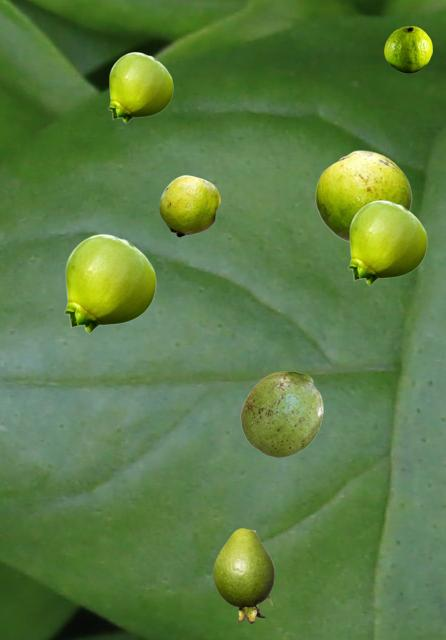guava: (64, 234, 155, 332), (315, 150, 411, 242), (240, 371, 322, 456), (348, 200, 426, 284), (213, 528, 273, 622), (108, 52, 172, 122), (159, 175, 219, 236), (384, 26, 431, 72)
